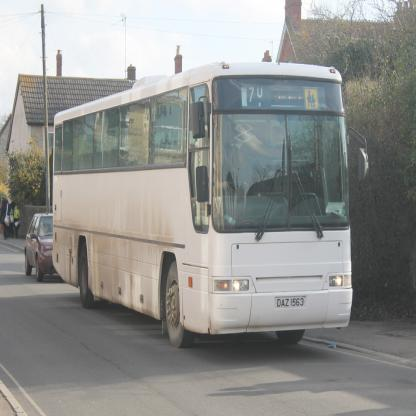Bus: (51, 57, 369, 348)
